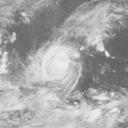cyclone: (27, 43, 81, 88)
